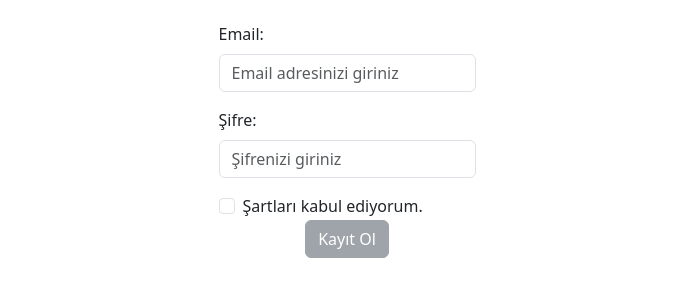
Test: Login Page › Error Messages › Password input throws error for invalid type
Type "1234" into the password field with test id "form-password". click: (348, 159)
box: top-left (219, 140), bottom-right (476, 178)
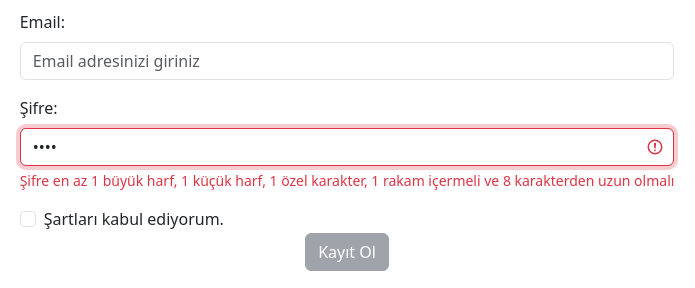
Now the text "Şifre en az 1 büyük harf, 1 küçük harf, 1 özel karakter, 1 rakam içermeli ve 8 karakterden uzun olmalı" is shown, box top-left (20, 171), bottom-right (675, 190)
